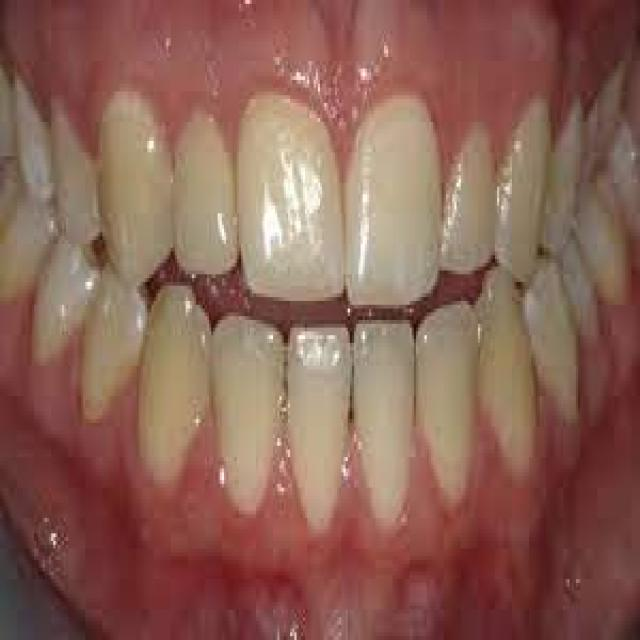tooth: (234, 84, 344, 312), (346, 95, 440, 301), (134, 278, 222, 495), (207, 312, 286, 514), (98, 76, 177, 274), (281, 308, 350, 534), (348, 320, 422, 518), (418, 293, 478, 518), (474, 289, 536, 506), (175, 84, 241, 282), (422, 114, 500, 274), (49, 65, 105, 251), (72, 282, 143, 427), (493, 99, 546, 290), (26, 240, 102, 362), (525, 271, 578, 438), (542, 95, 584, 267), (15, 69, 55, 217), (586, 53, 636, 164), (587, 183, 627, 305), (2, 202, 51, 282), (559, 252, 593, 346), (2, 54, 21, 156), (614, 152, 638, 218)
